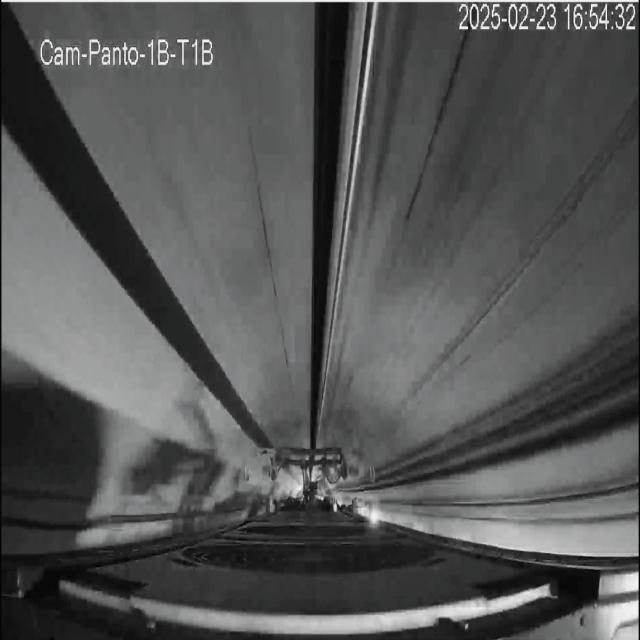Camera Stamp: (36, 29, 222, 70)
Date Stamp: (458, 3, 635, 33)
No - Spark: (250, 445, 370, 518)
